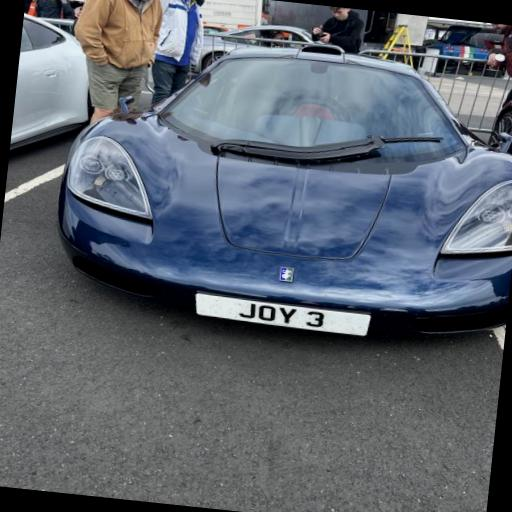numberplates: (196, 293, 370, 336)
